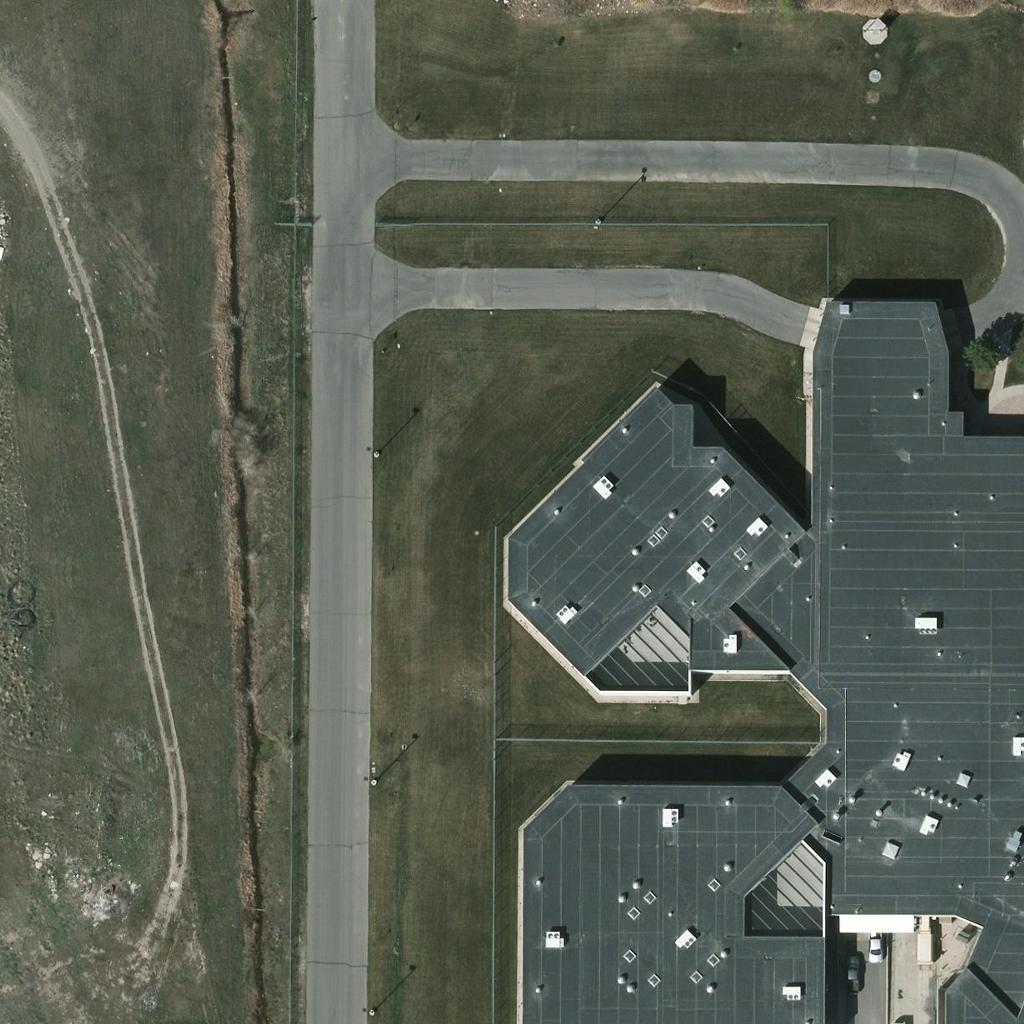car: (858, 925, 892, 959), (834, 956, 868, 990)
